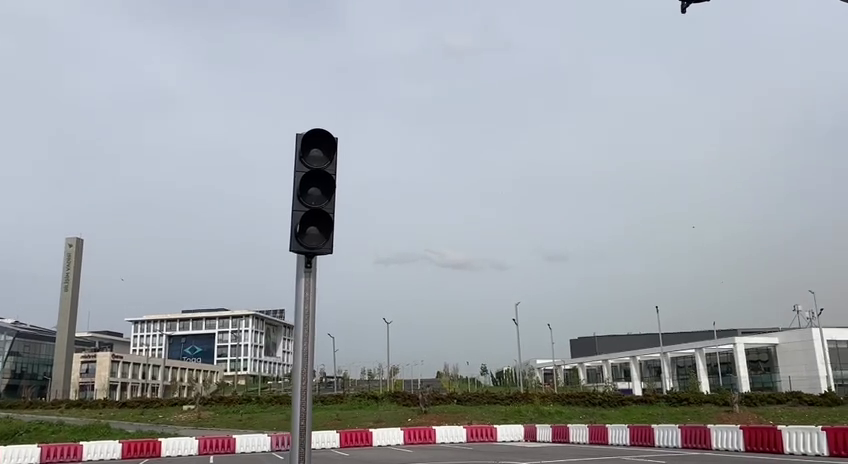trafficLight: (284, 123, 343, 264)
